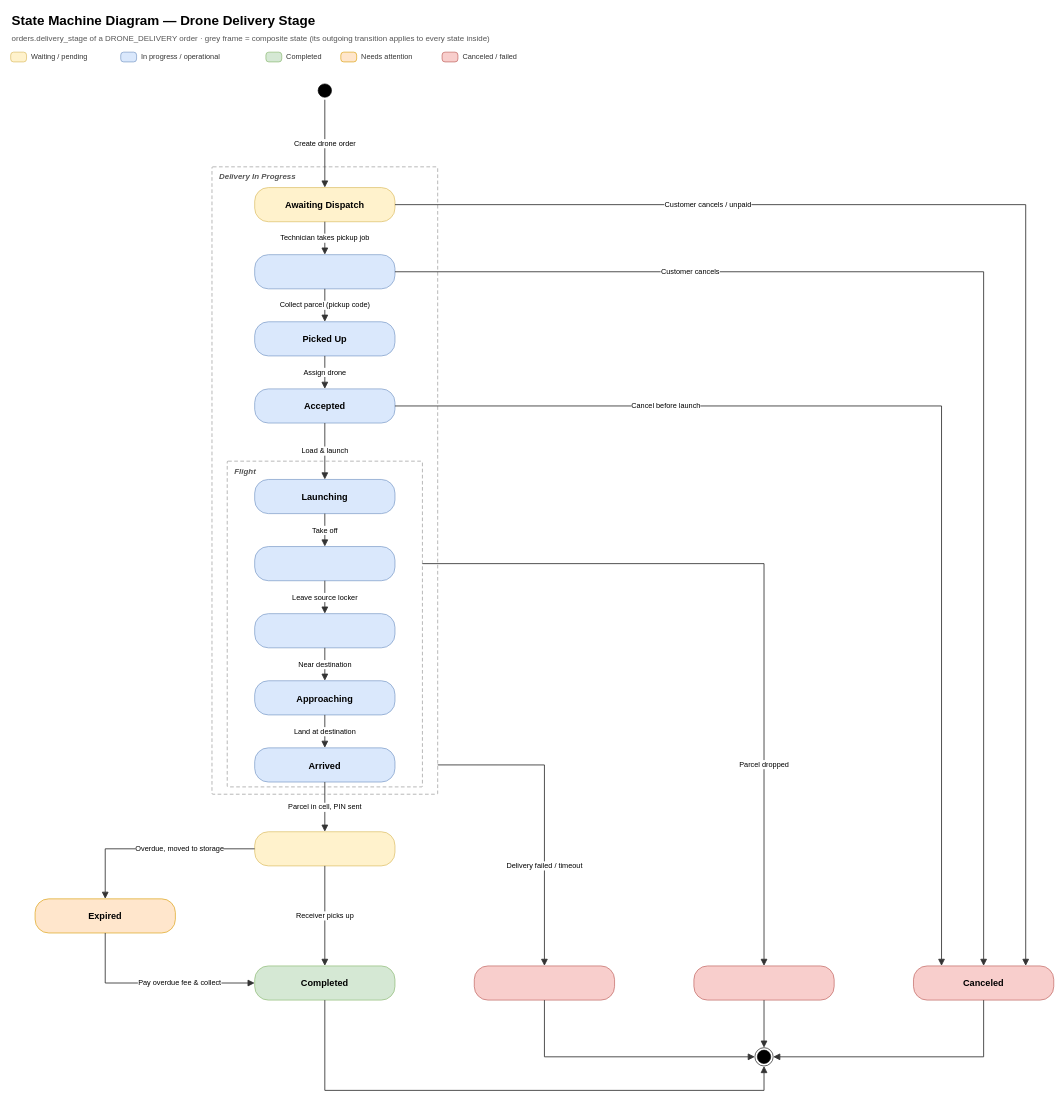
This 1064x1107 diagram has some shape labels left out. Here are the shapes that lost their labels. From the top down, the centre of each, then its label:
At (324,271): "Pickup Assigned".
At (324,563): "Departed".
At (324,630): "En Route".
At (324,848): "Ready For Pickup".
At (544,982): "Failed".
At (763,982): "Drop Reported".
